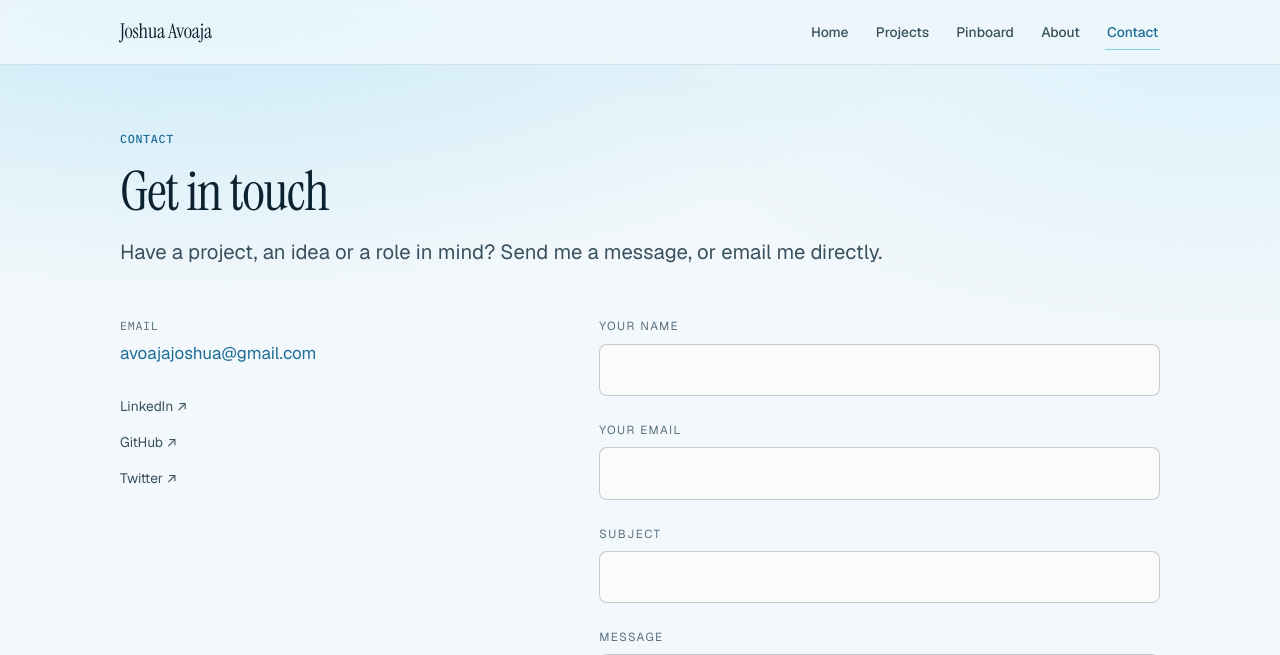
Test: v2 contact › surfaces the mailto fallback when the POST fails
In the field labelled "Your name": (880, 370) [599,344,1160,396], type "Ada"
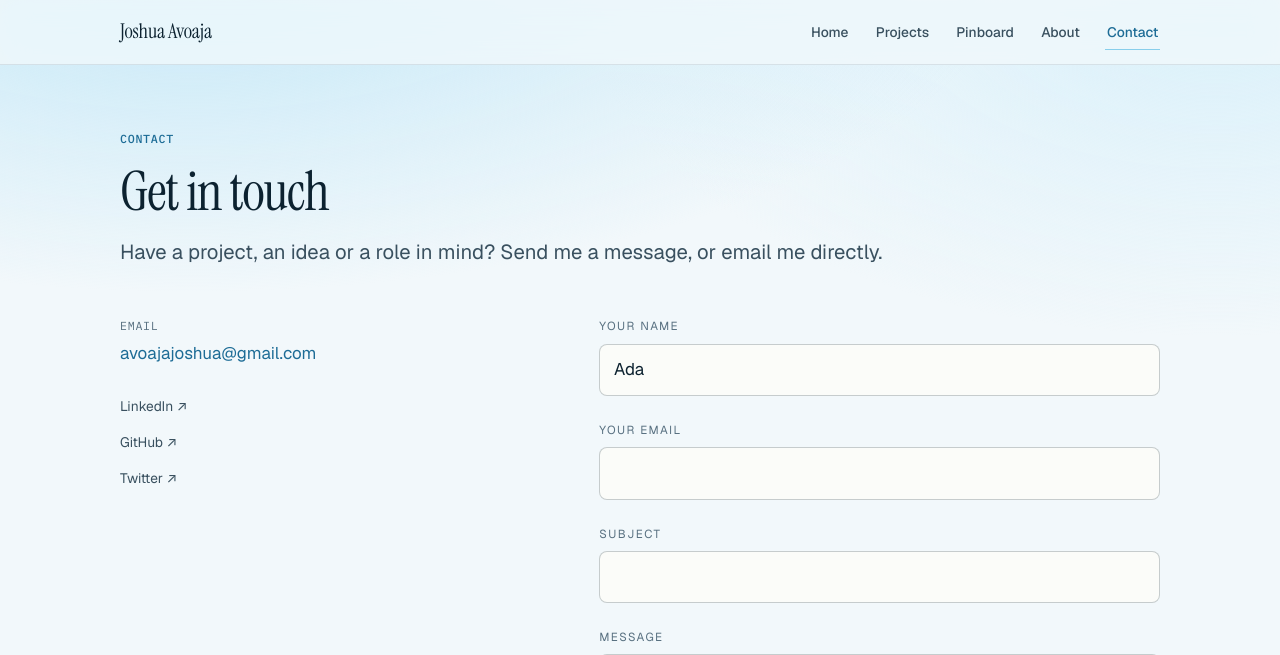
In the field labelled "Your email": (880, 473) [599,447,1160,500], type "ada@example.com"
(page scrolled)
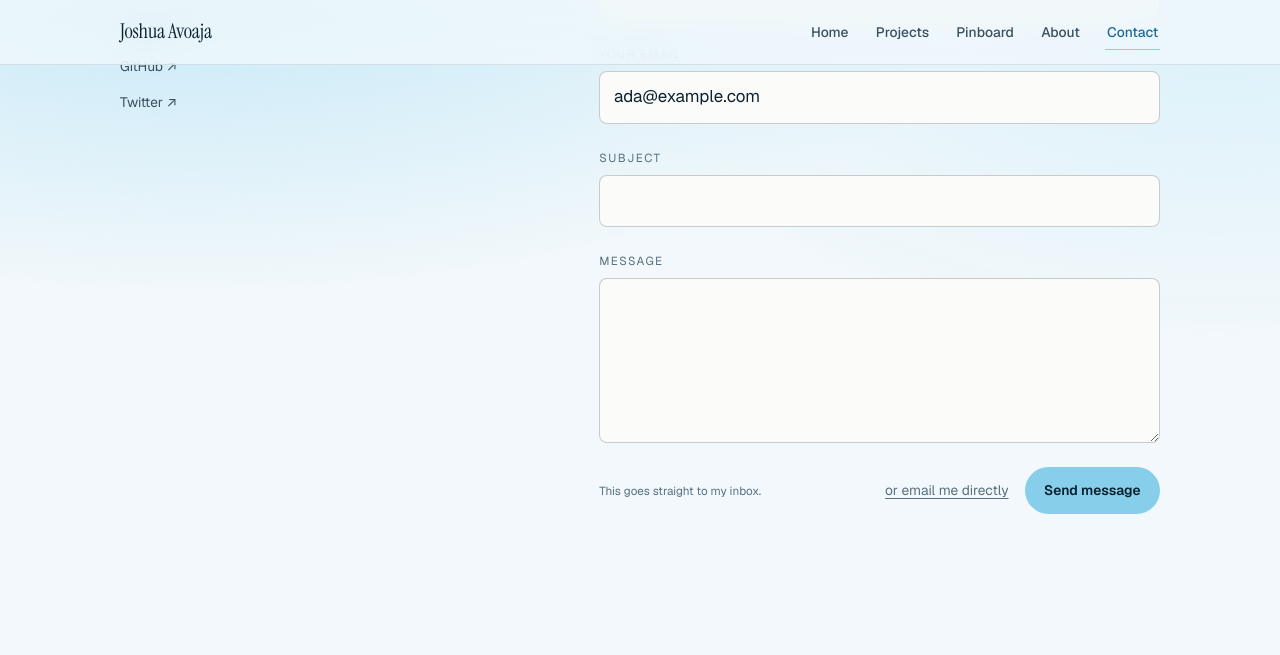
In the text box labelled "Message": (880, 360) [599,278,1160,443], type "Hello there"
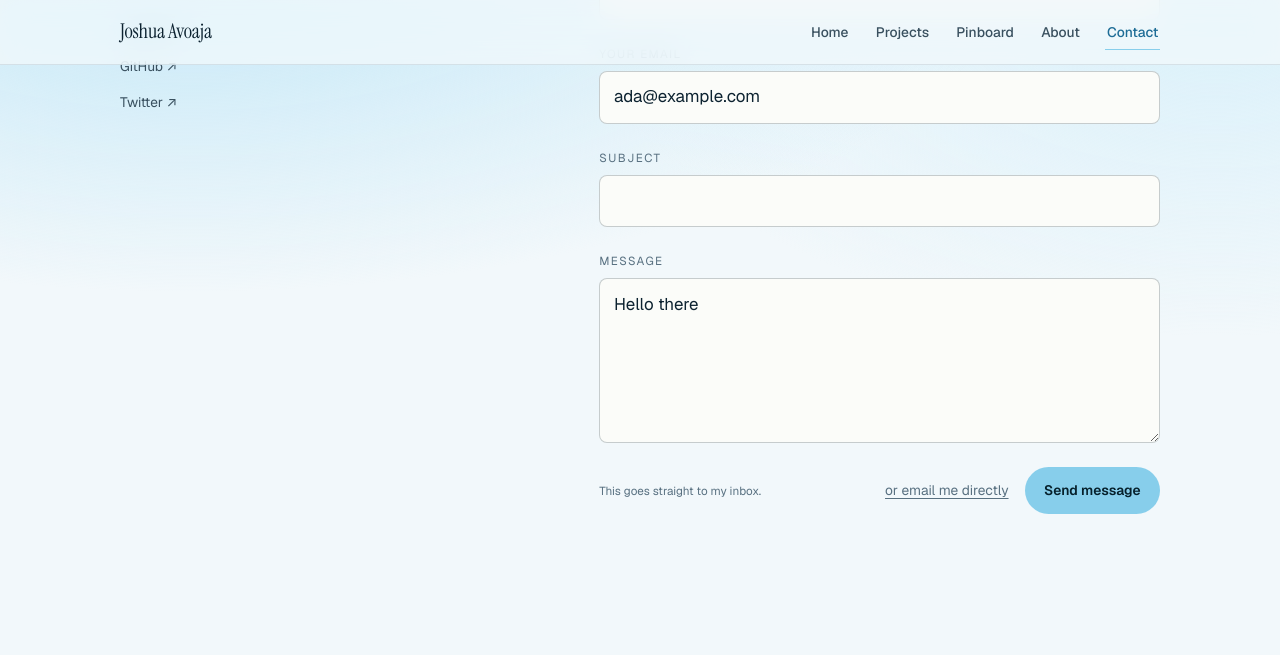
Click the button "Send message": (1092, 490) [1024,467,1160,514]
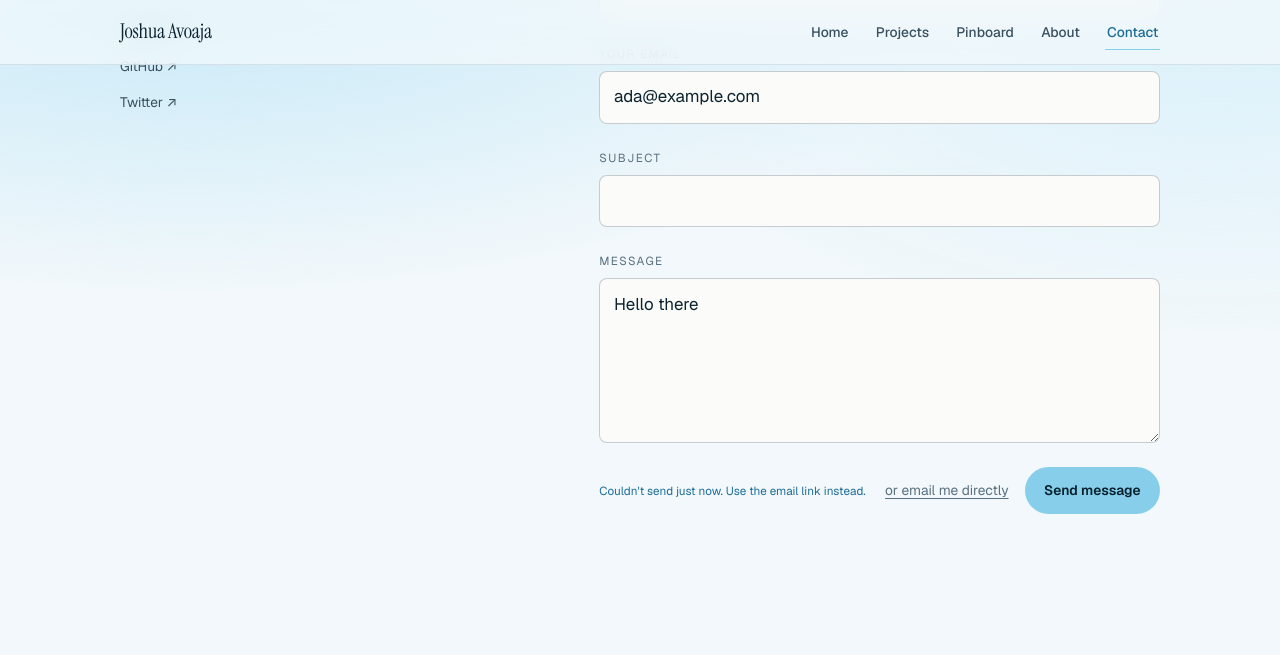
Expected: the text "Couldn't send just now. Use the email link instead." is shown, [599,480,866,500]
